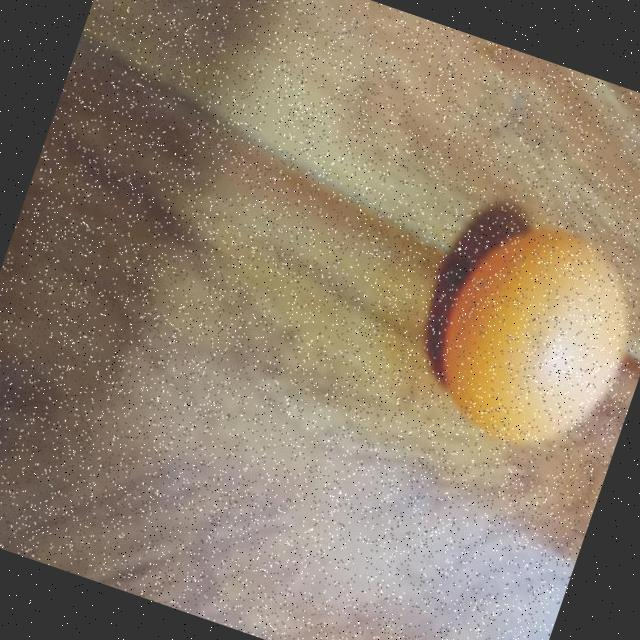ping-pong-ball: (414, 204, 640, 467)
